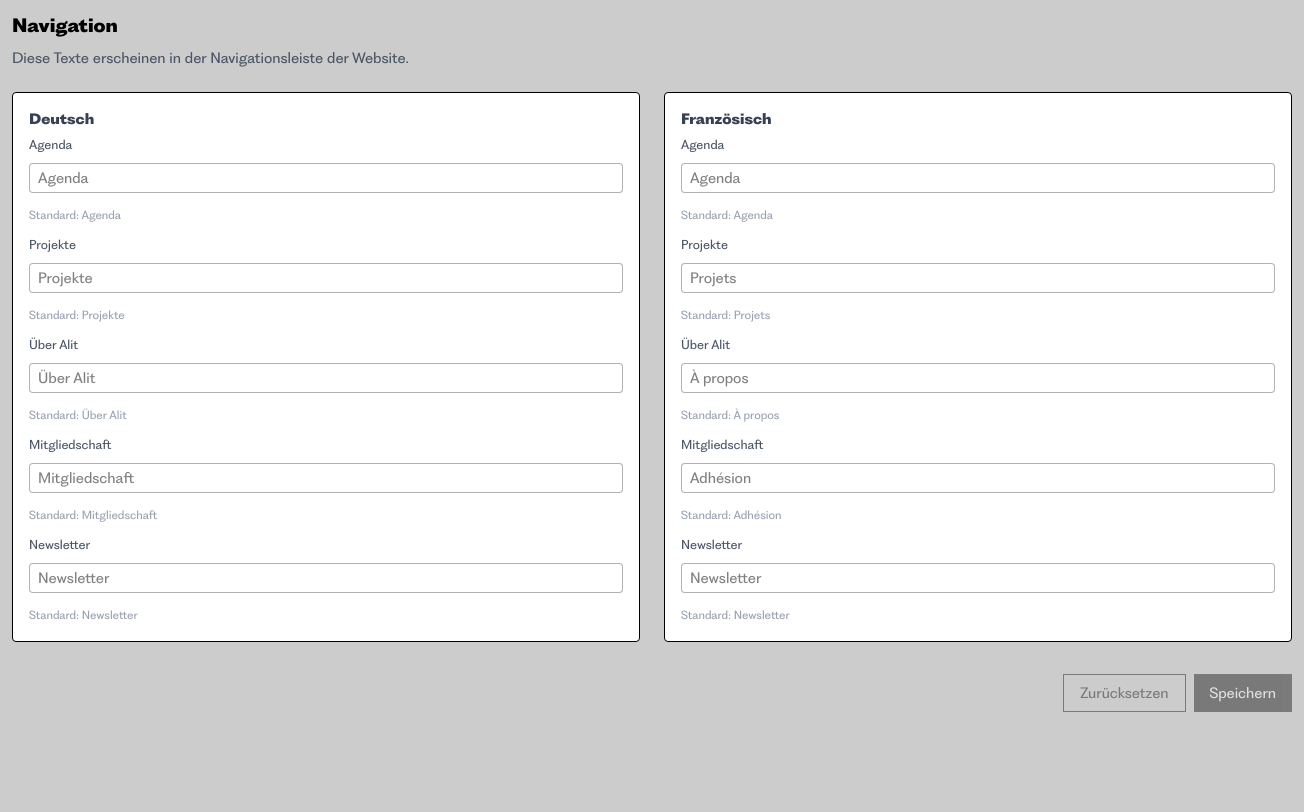
NavLabelsSection › editing a field enables Save
Check: the button with test id "nav-save" is disabled, box [1194,674,1292,712]
Type "Neu" into the field with test id "nav-de-agenda".
click(326, 178); type("Neu")  # box [29,163,623,193]
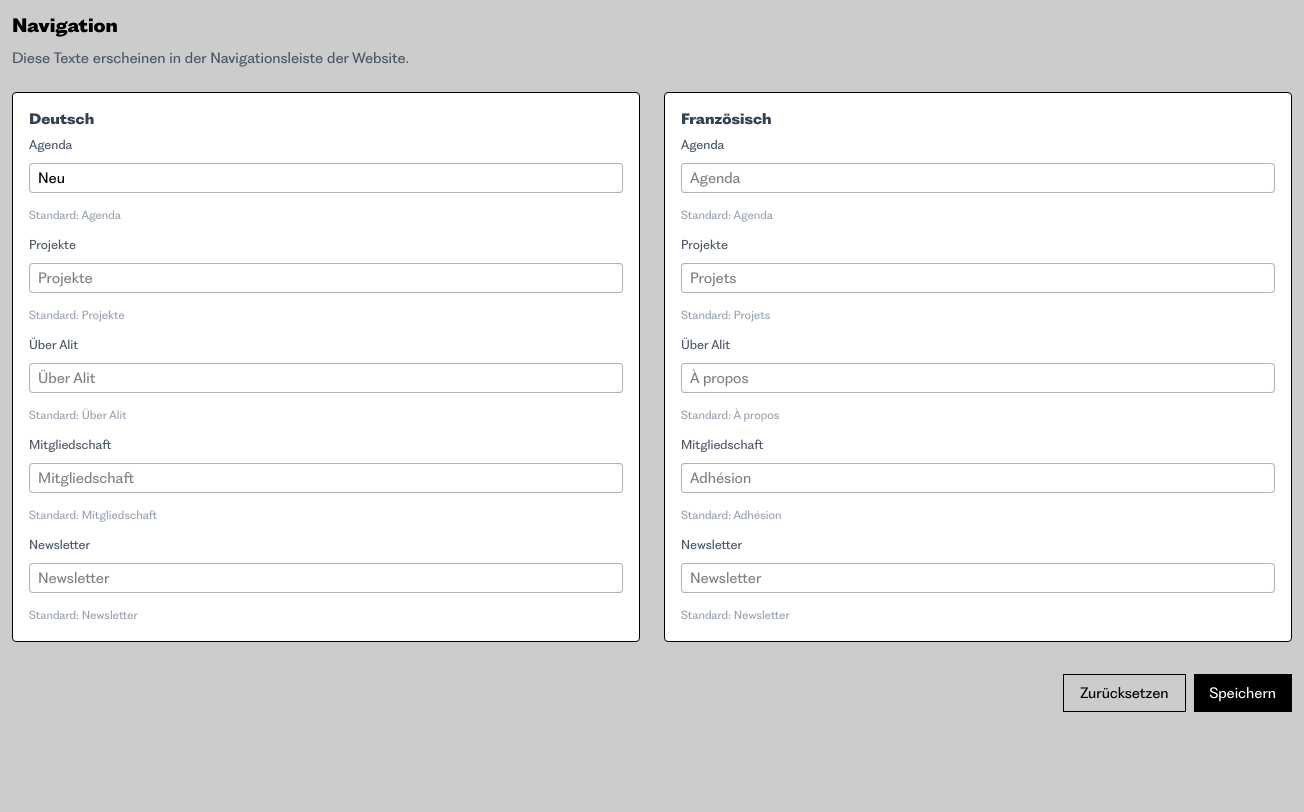
Check: the button with test id "nav-save" is enabled, box [1194,674,1292,712]
